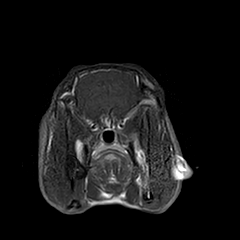Brain: (59, 43, 158, 141)
